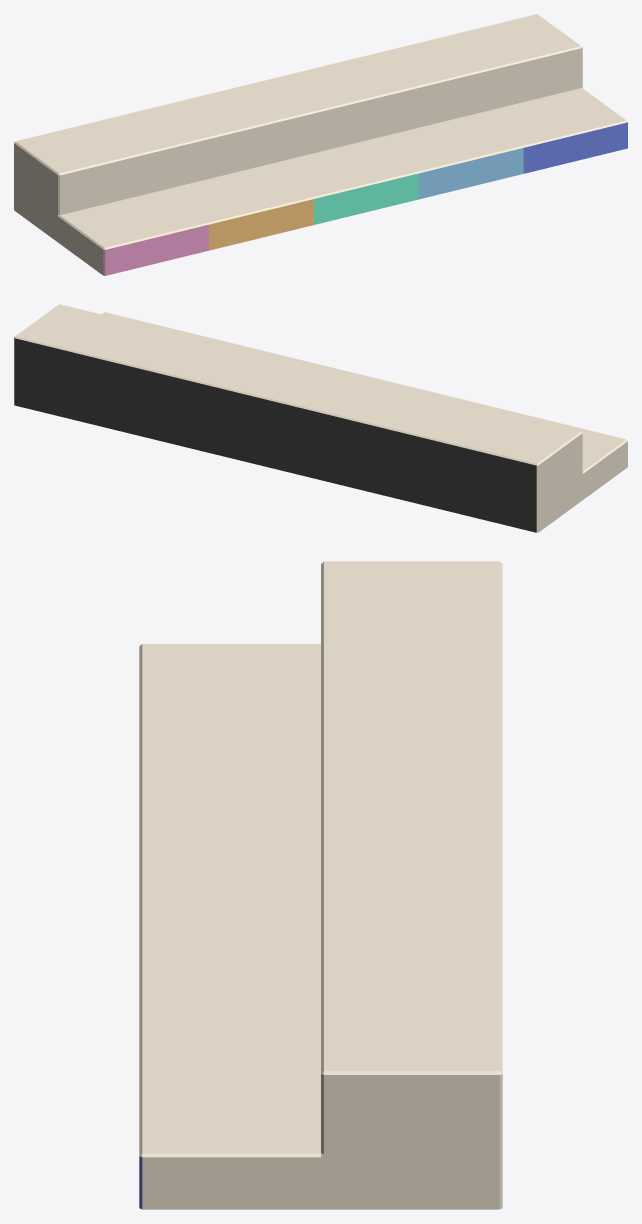
Rendered from Tiered_Stand_01.FBX.
3 views of the same model, one above another, from view 1: azimuth 30°, elevation 25°; view 2: azimuth 150°, elevation 25°; view 3: azimuth 270°, elevation 25° (orthographic). The views are drawn at different scales.
Parts seen in each view (by area): view 1: Tiered_Stand_01; view 2: Tiered_Stand_01; view 3: Tiered_Stand_01.
Part boxes in pixels (bbox=[...]): Tiered_Stand_01: bbox=[14, 14, 627, 275]; Tiered_Stand_01: bbox=[14, 304, 627, 532]; Tiered_Stand_01: bbox=[139, 561, 502, 1209].
Size of the model in its own units: 8 by 1 by 2.4.
